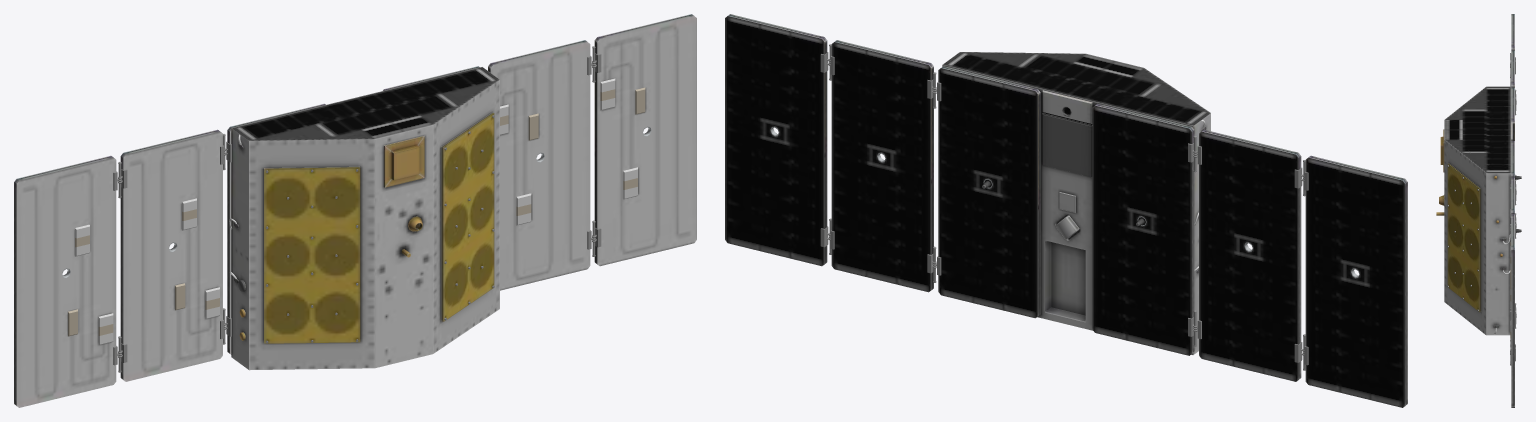
File: cygnss.glb
3 renders of one model, left to right at view 1: azimuth 30°, elevation 25°; view 2: azimuth 150°, elevation 25°; view 3: azimuth 270°, elevation 25°, orthographic. The views are drawn at different scales.
Visible parts, largest first — view 1: BUS, array_left1_instruments, antenna_screws; view 2: BUS, antenna_screws; view 3: BUS, antenna_screws, array_left1_instruments.
Part boxes in pixels (<box>): BUS: <box>14,14,696,407</box>; array_left1_instruments: <box>68,78,645,345</box>; antenna_screws: <box>113,46,601,372</box>; BUS: <box>725,14,1407,407</box>; antenna_screws: <box>820,44,1308,370</box>; BUS: <box>1436,14,1521,407</box>; antenna_screws: <box>1447,53,1516,365</box>; array_left1_instruments: <box>1510,78,1511,344</box>.
Size of the model in its own units: 1 by 0.3219 by 0.1534.
Materials: 6 (1 with a texture image).
